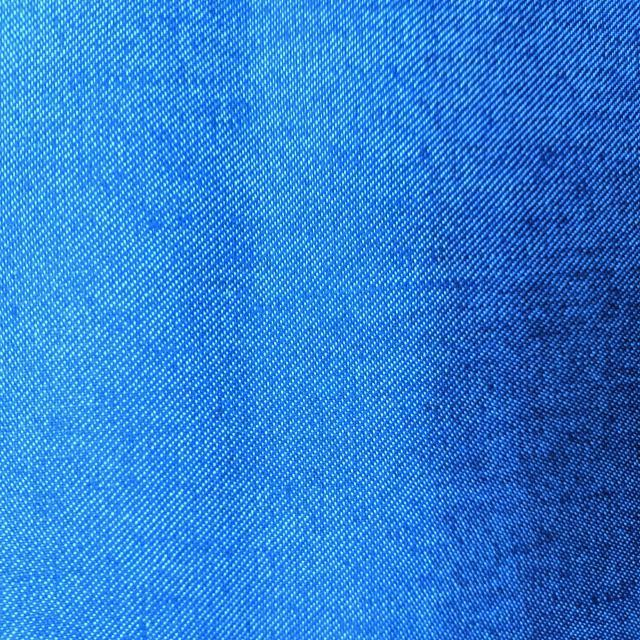Line: (232, 262, 588, 310)
